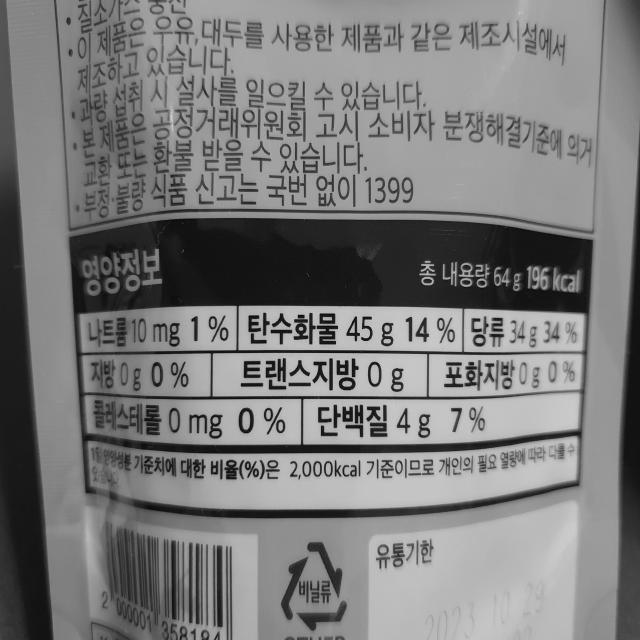Nutrition Label: (51, 220, 600, 500)
